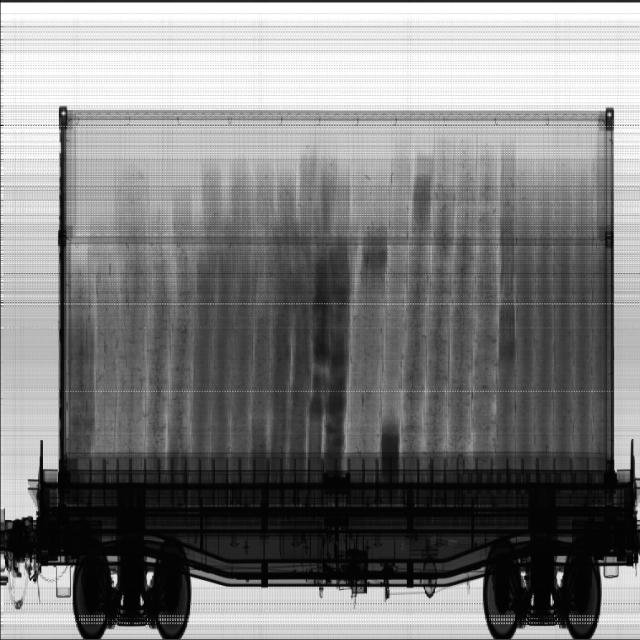textiles: (65, 144, 605, 458)
